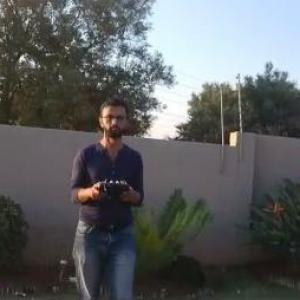follow: (63, 89, 150, 298)
